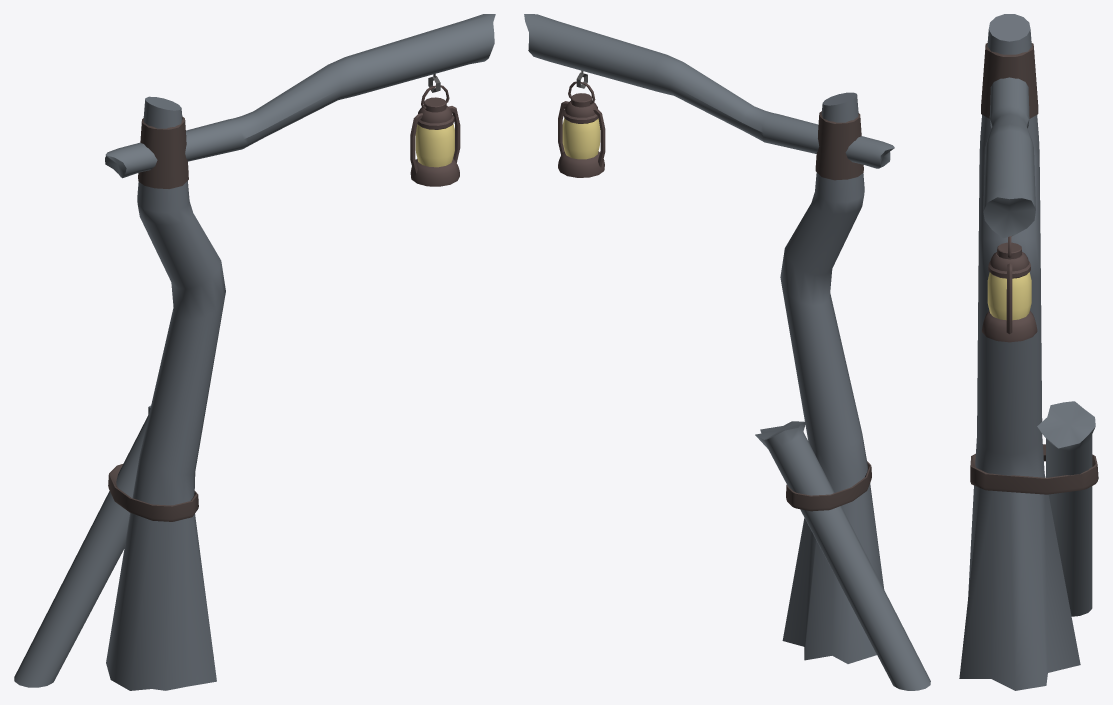
Rendered from Lampara_Camino.fbx.
The picture shows the model from 3 angles, left to right: view 1: azimuth 30°, elevation 25°; view 2: azimuth 150°, elevation 25°; view 3: azimuth 270°, elevation 25°; orthographic projection. The views are drawn at different scales.
Parts seen in each view (by area): view 1: Lampara_Camino; view 2: Lampara_Camino; view 3: Lampara_Camino.
Boxes of the visible parts, left/top/right/bottom form: Lampara_Camino: left=14, top=14, right=495, bottom=690; Lampara_Camino: left=524, top=14, right=930, bottom=690; Lampara_Camino: left=959, top=14, right=1098, bottom=690.
Bounding box in the file's own units: 2.49 × 3.05 × 0.5969.
